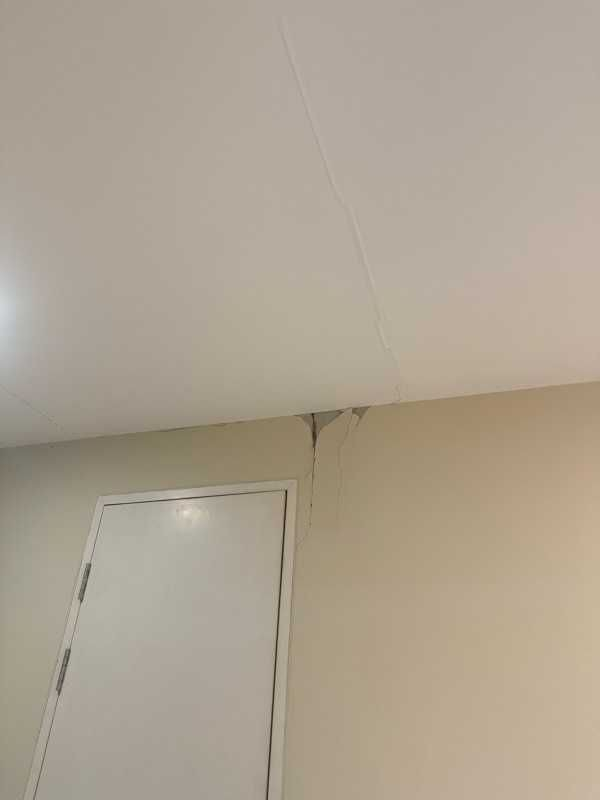Low: (280, 404, 374, 538)
